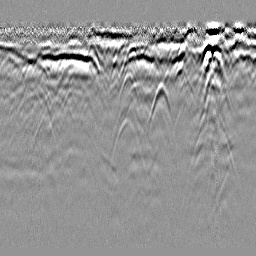cavity: (117, 68, 141, 108)
